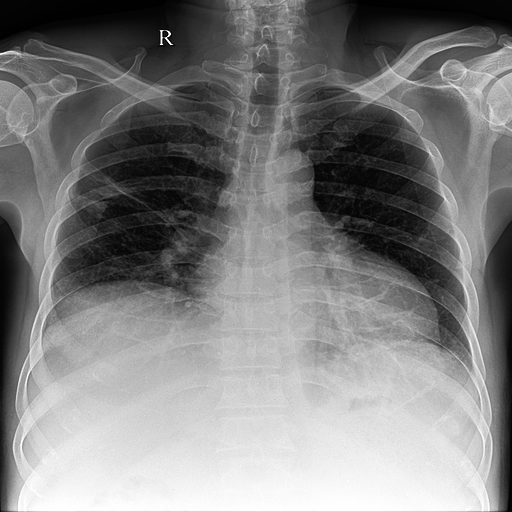ILD: (77, 162, 148, 219)
Infiltration: (60, 161, 160, 221)
Pleural thickening: (70, 166, 189, 244)
Pneumothorax: (70, 166, 189, 244)
